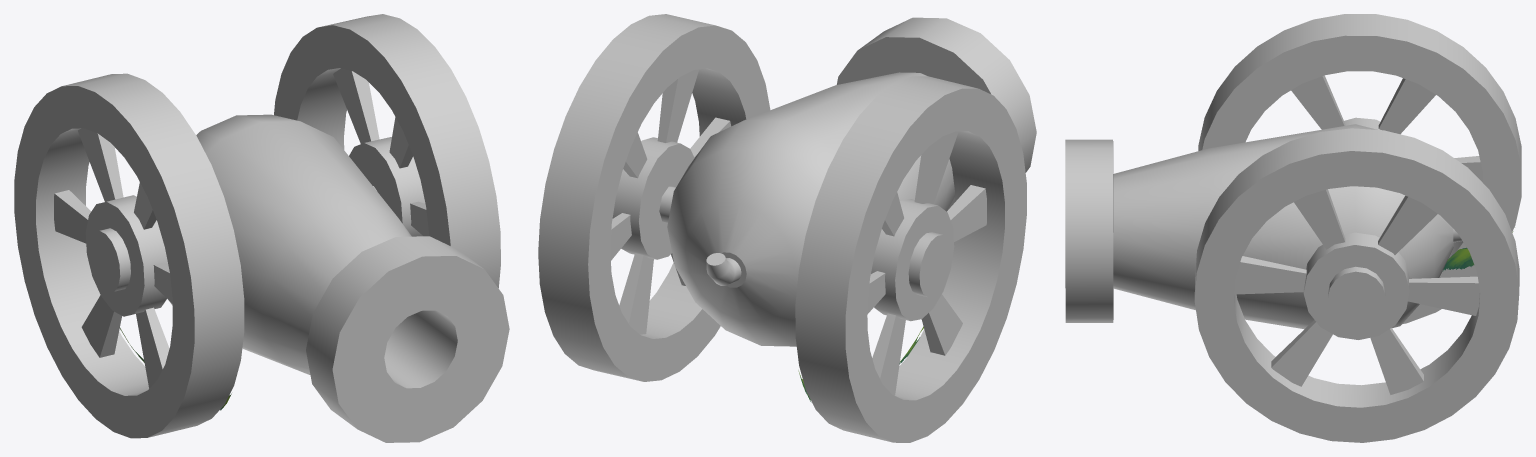
Rendered from cannon.fbx.
3 views of the same model, side by side, from view 1: azimuth 30°, elevation 25°; view 2: azimuth 150°, elevation 25°; view 3: azimuth 270°, elevation 25° (orthographic). The views are drawn at different scales.
Parts seen in each view (by area): view 1: Cannon, Cannon.004, Cannon.001; view 2: Cannon, Cannon.001, Cannon.004; view 3: Cannon.001, Cannon.004, Cannon, Plane.044.
Boxes of the visible parts, left/top/right/bottom form: Cannon: left=14, top=73, right=244, bottom=438; Cannon.004: left=168, top=114, right=509, bottom=442; Cannon.001: left=274, top=14, right=500, bottom=287; Cannon: left=795, top=76, right=1026, bottom=442; Cannon.001: left=538, top=14, right=770, bottom=381; Cannon.004: left=659, top=17, right=1036, bottom=346; Cannon.001: left=1194, top=128, right=1519, bottom=442; Cannon.004: left=1065, top=124, right=1462, bottom=329; Cannon: left=1198, top=14, right=1521, bottom=324; Plane.044: left=1442, top=231, right=1513, bottom=271.
Bounding box in the file's own units: 334 × 342 × 477.
